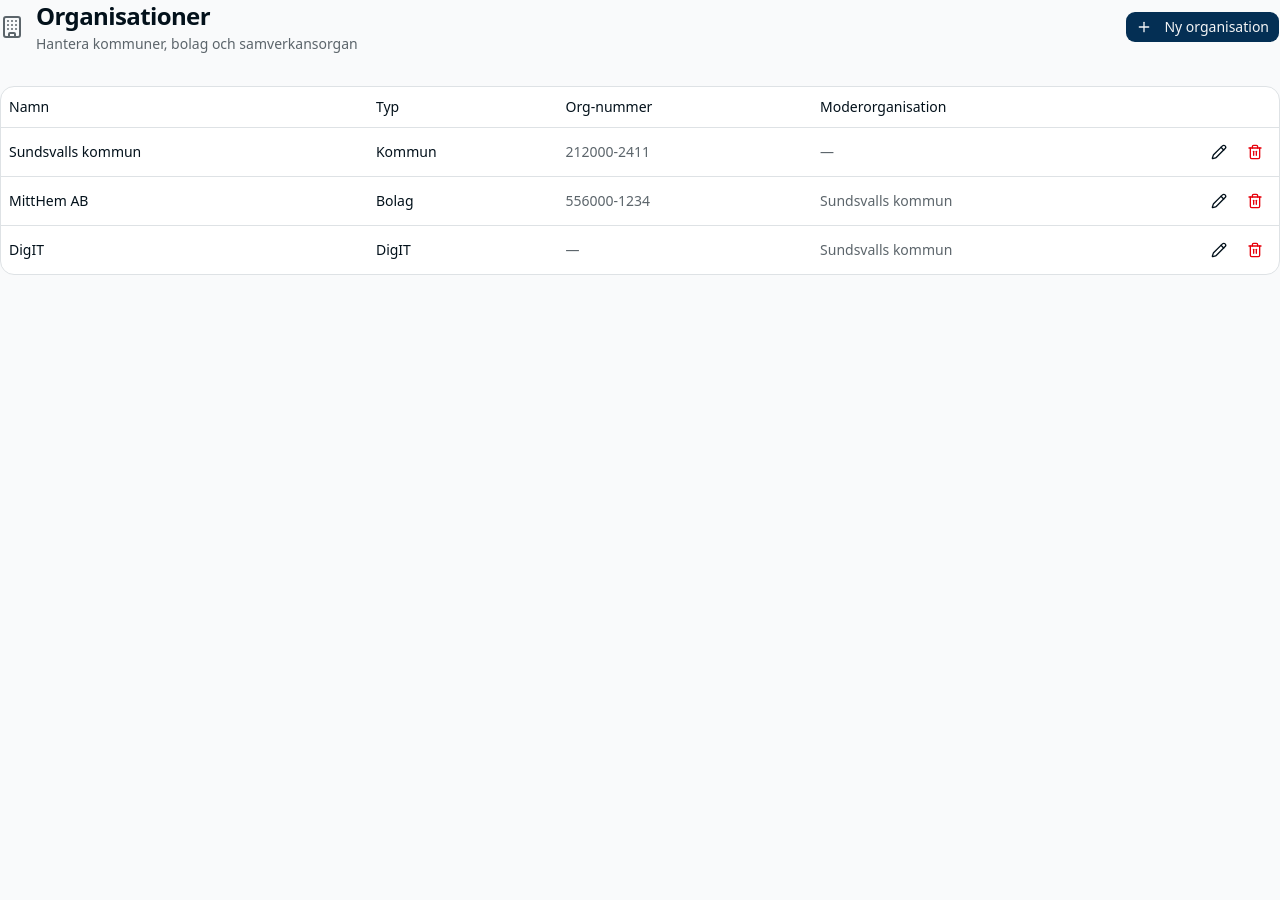
Test: OrganizationsPage › Skapa ny organisation › visar valideringsfel om namn saknas vid submit
Click the button "Ny organisation".
click(1203, 27)  # box [1125,11,1279,43]
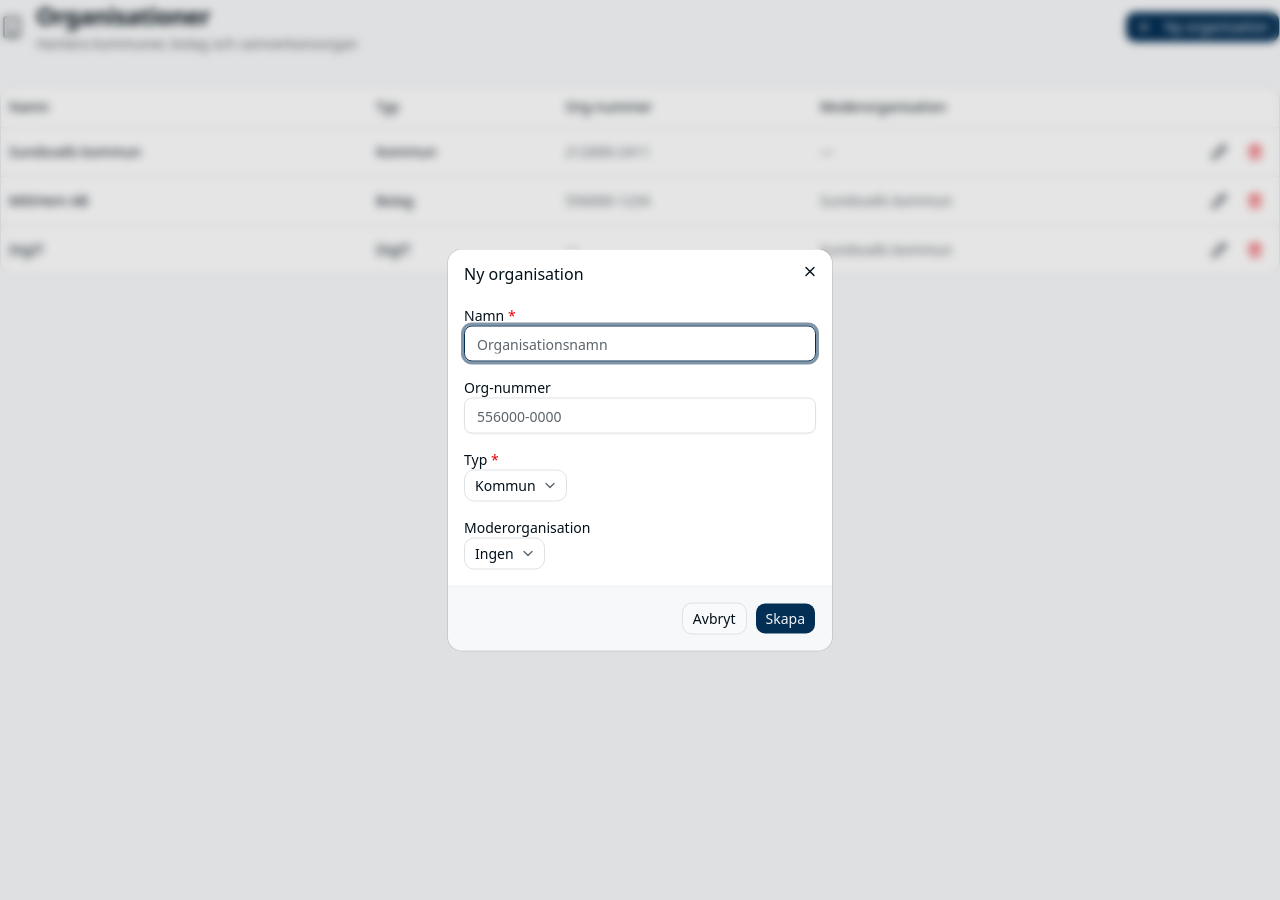
Check: the button "Skapa" is shown
Click the button "Skapa".
click(785, 618)  # box [754,602,816,634]
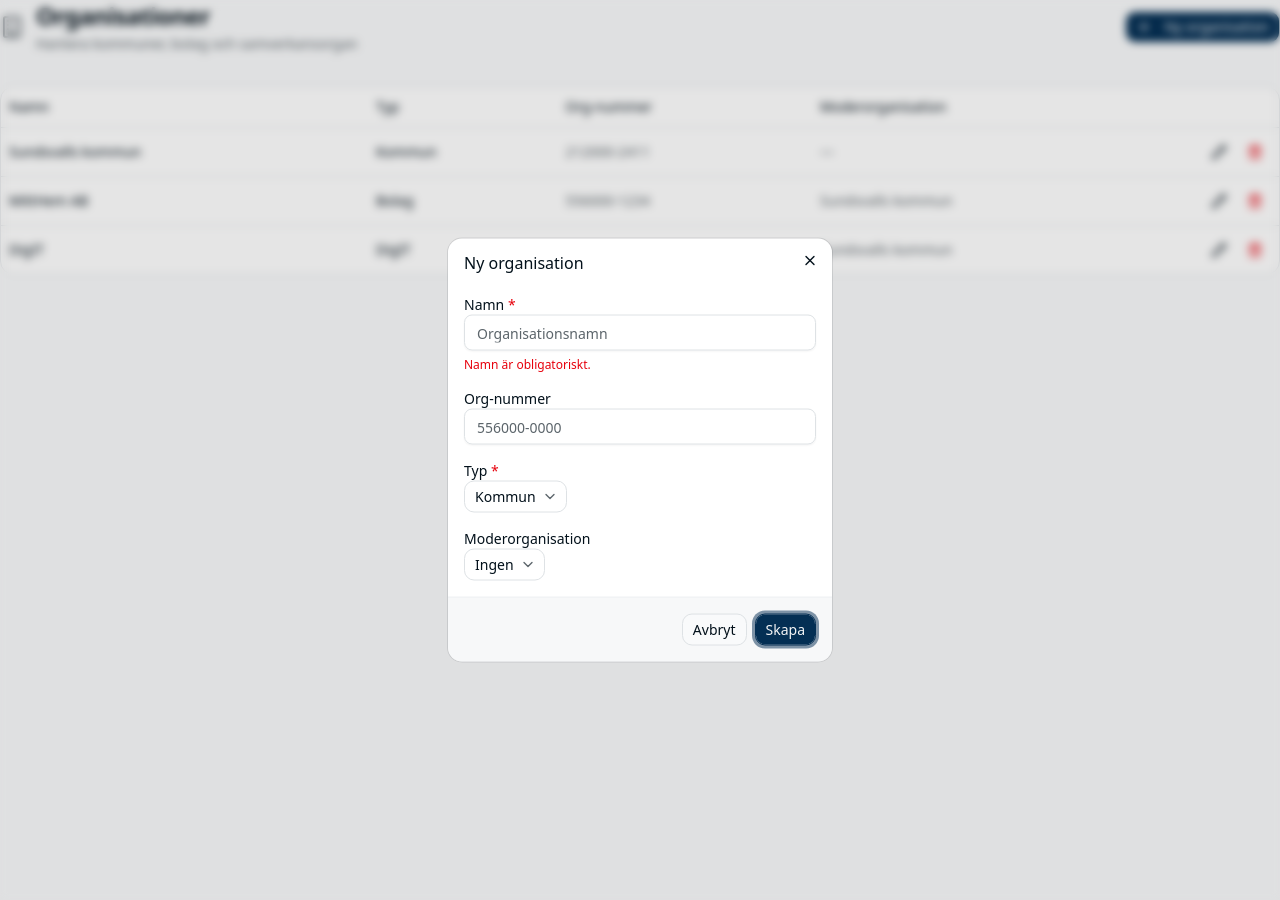
Check: the text "Namn är obligatoriskt." is shown, box [464,356,591,372]
